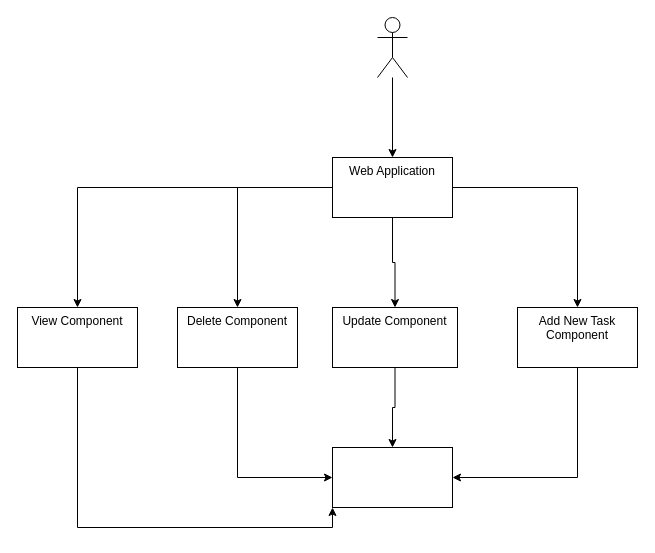
The diagram is 655 pixels wide and 553 high, and some of its shapes have lost their labels. Here are the shapes that lost their labels. From the top down, the centre of each, then its label:
At point 392,47: "Web App User".
At point 392,477: "Trello API".
